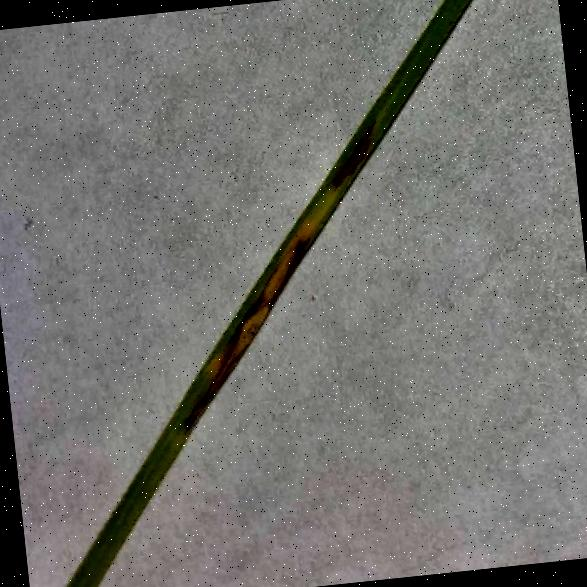Leaf_smut: (122, 108, 408, 442)
